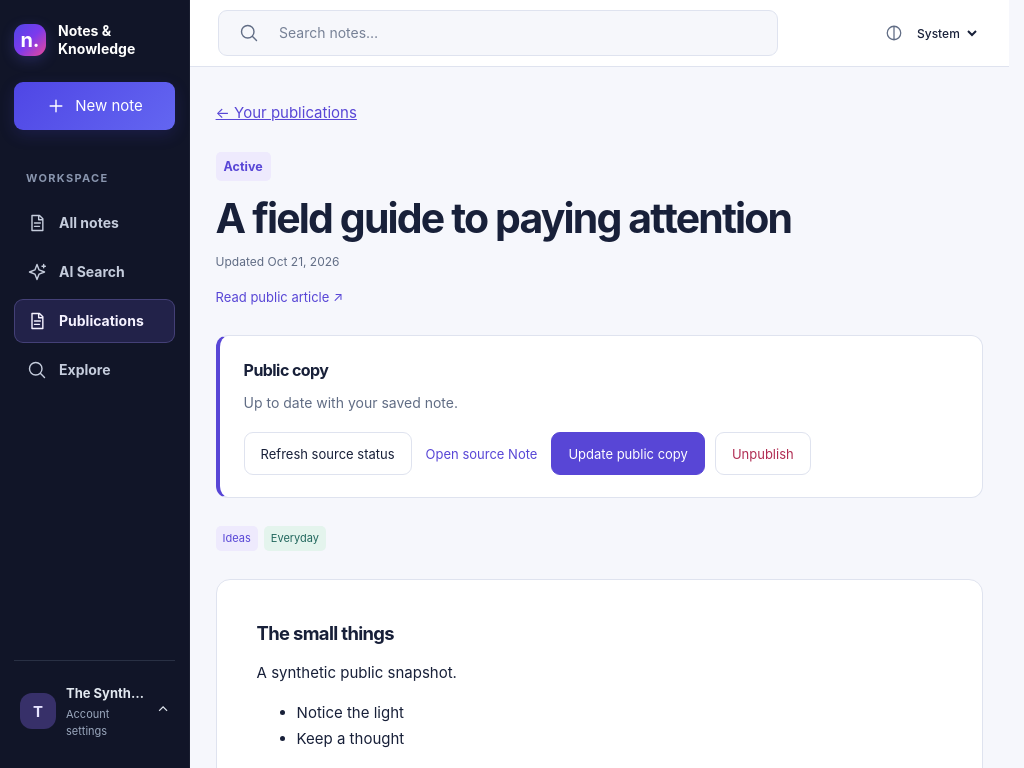
Test case: deliberate owner workflow › requires fresh preview after a rejected fingerprint and never silently retries
Step 1. Click the button "Update public copy" → (628, 454), box [551, 432, 705, 475]
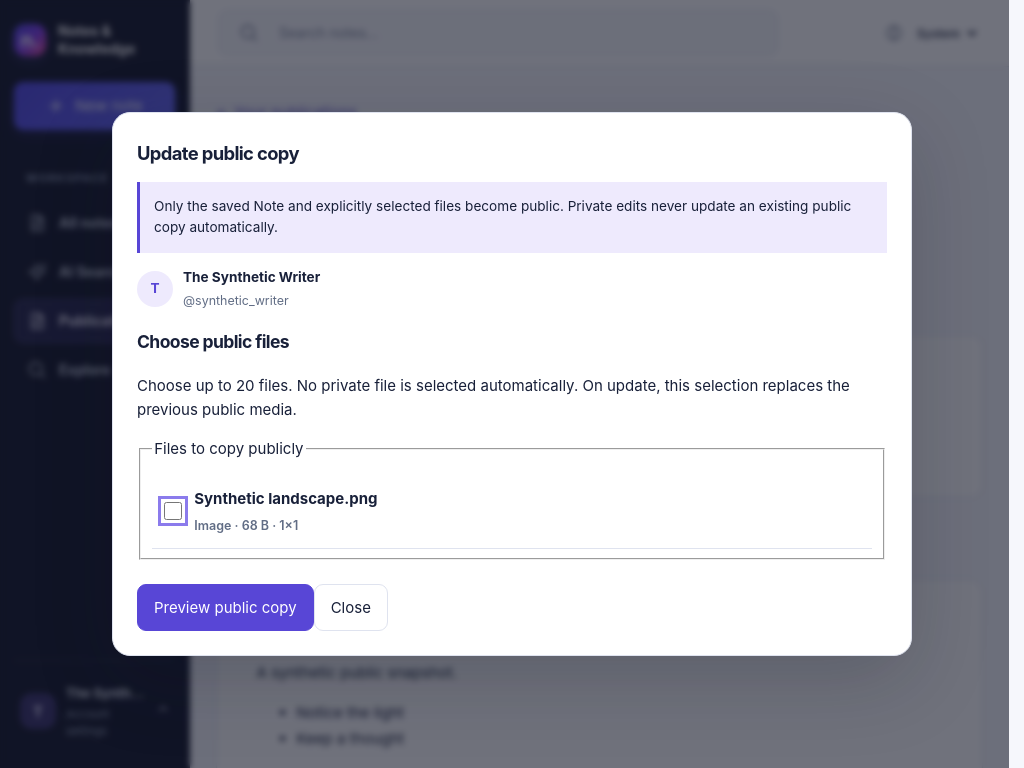
Expected: the dialog is shown, [112, 112, 912, 656]
Expected: the button "Preview public copy" is shown
Expected: the button "Preview public copy" is enabled
Step 2. Click the button "Preview public copy" → (225, 608), box [137, 584, 314, 631]
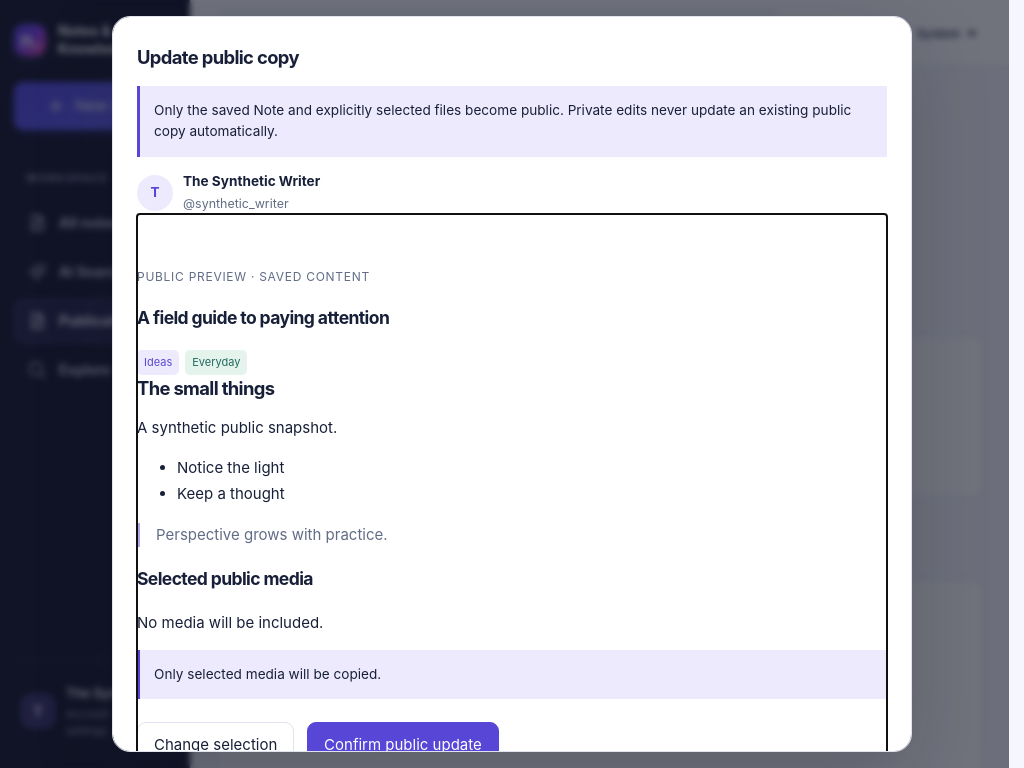
Expected: the button "Confirm public update" is shown, [307, 722, 499, 752]
Step 3. Click the button "Confirm public update" → (403, 745), box [307, 722, 499, 767]
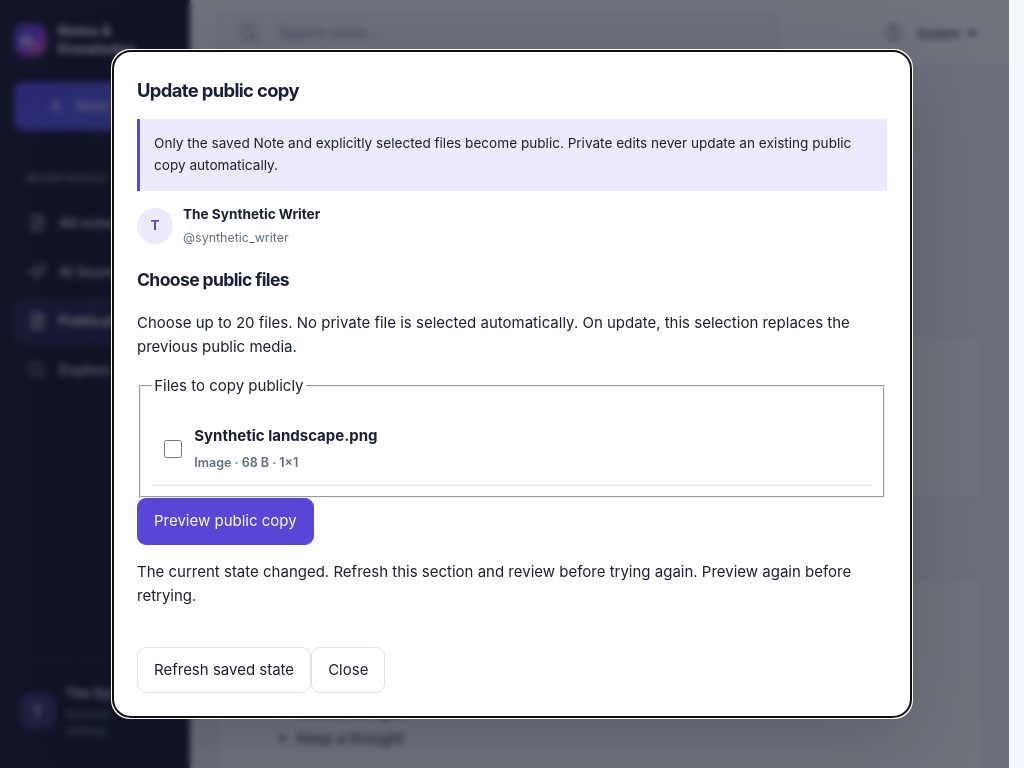
Expected: the message is shown, [137, 560, 887, 608]
Expected: the button "Confirm public update" is gone
